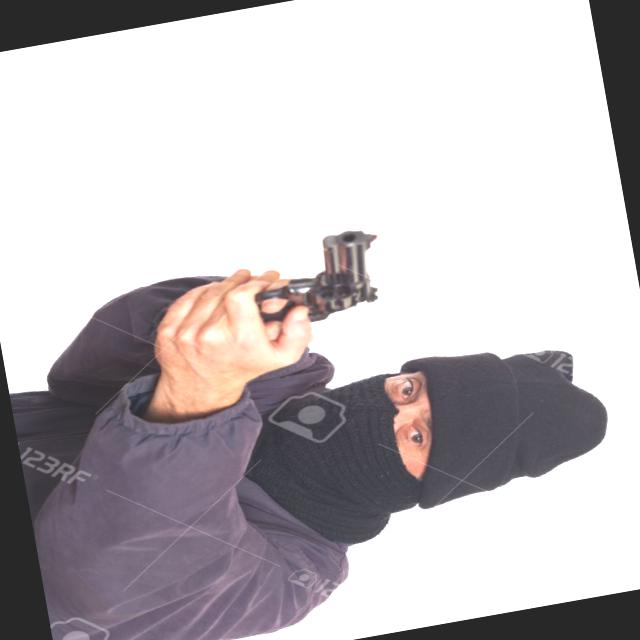handgun: (244, 212, 402, 343)
